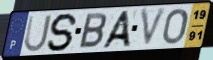A: (99, 10, 132, 50)
B: (77, 12, 109, 50)
O: (161, 8, 189, 46)
S: (46, 12, 80, 52)
U: (23, 13, 54, 53)
V: (139, 6, 169, 50)
